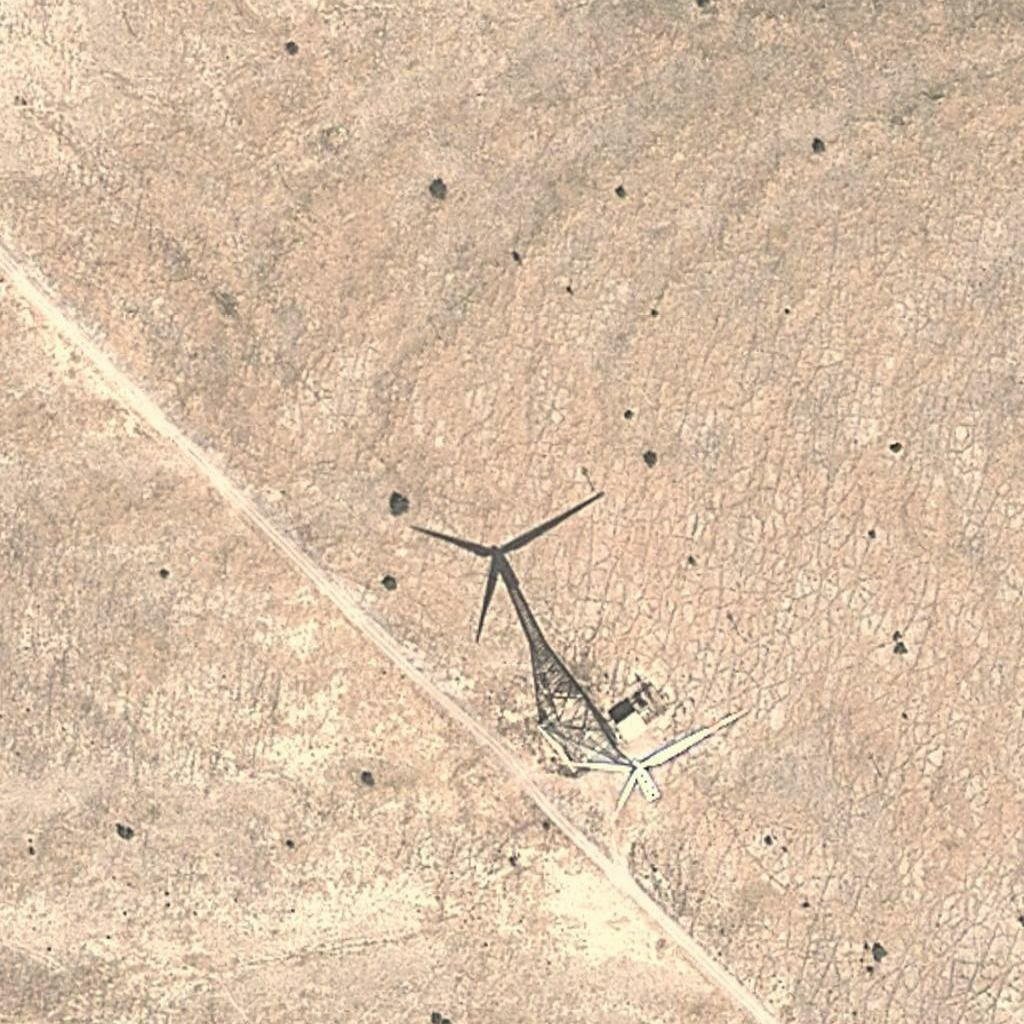Windmill: (410, 476, 617, 715)
